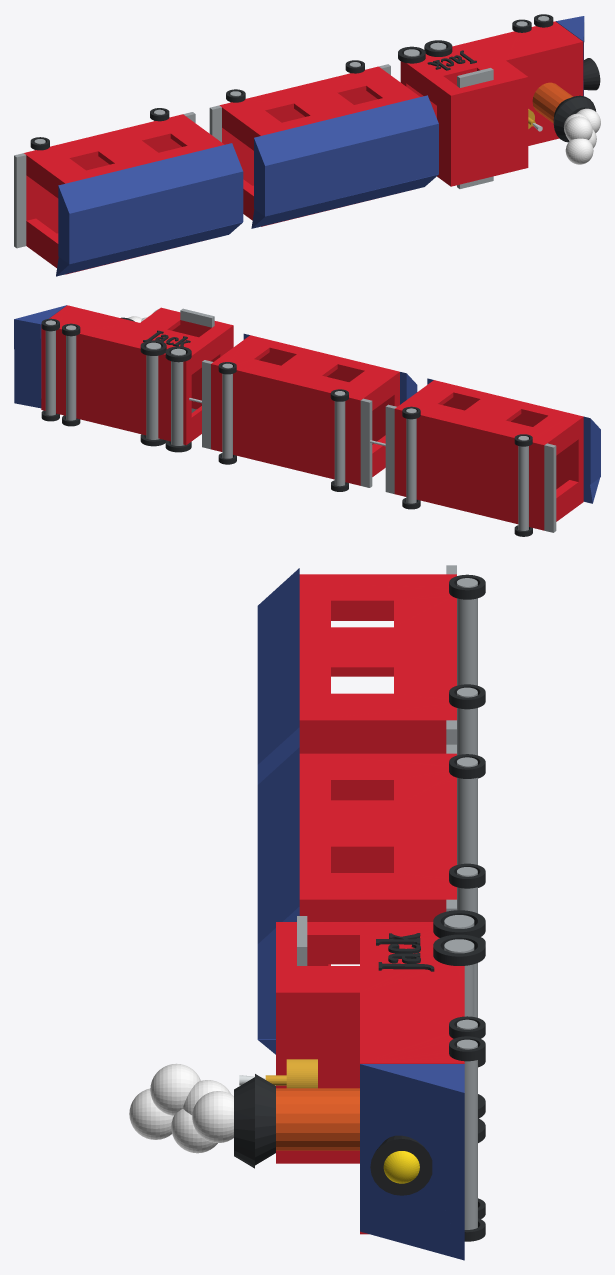
Rendered from tinker.obj.
The picture shows the model from 3 angles, top to bottom: view 1: azimuth 30°, elevation 25°; view 2: azimuth 150°, elevation 25°; view 3: azimuth 270°, elevation 25°; orthographic projection. The views are drawn at different scales.
Visible parts, largest first — view 1: group_0_15277357, group_0_3888547, group_0_2829873, group_0_10988977, group_0_16448250, group_0_14900002; view 2: group_0_15277357, group_0_10988977, group_0_3888547, group_0_2829873; view 3: group_0_15277357, group_0_3888547, group_0_2829873, group_0_10988977, group_0_16448250, group_0_14900002, group_0_14789940, group_0_16768282.
Boxes of the visible parts, box(x1,y1,x2,y2) form: group_0_15277357: box(24, 21, 583, 274); group_0_3888547: box(56, 16, 584, 276); group_0_2829873: box(30, 14, 600, 150); group_0_10988977: box(14, 16, 549, 248); group_0_16448250: box(564, 108, 600, 164); group_0_14900002: box(532, 82, 572, 123); group_0_15277357: box(41, 305, 583, 530); group_0_10988977: box(45, 308, 556, 532); group_0_3888547: box(14, 305, 600, 503); group_0_2829873: box(41, 317, 532, 536); group_0_15277357: box(276, 574, 464, 1234); group_0_3888547: box(257, 568, 464, 1260); group_0_2829873: box(234, 574, 485, 1241); group_0_10988977: box(297, 565, 477, 1229); group_0_16448250: box(129, 1063, 233, 1153); group_0_14900002: box(276, 1088, 359, 1150); group_0_14789940: box(265, 1059, 317, 1088); group_0_16768282: box(383, 1151, 419, 1183).
Bounding box in the file's own units: 118 × 22 × 34.
